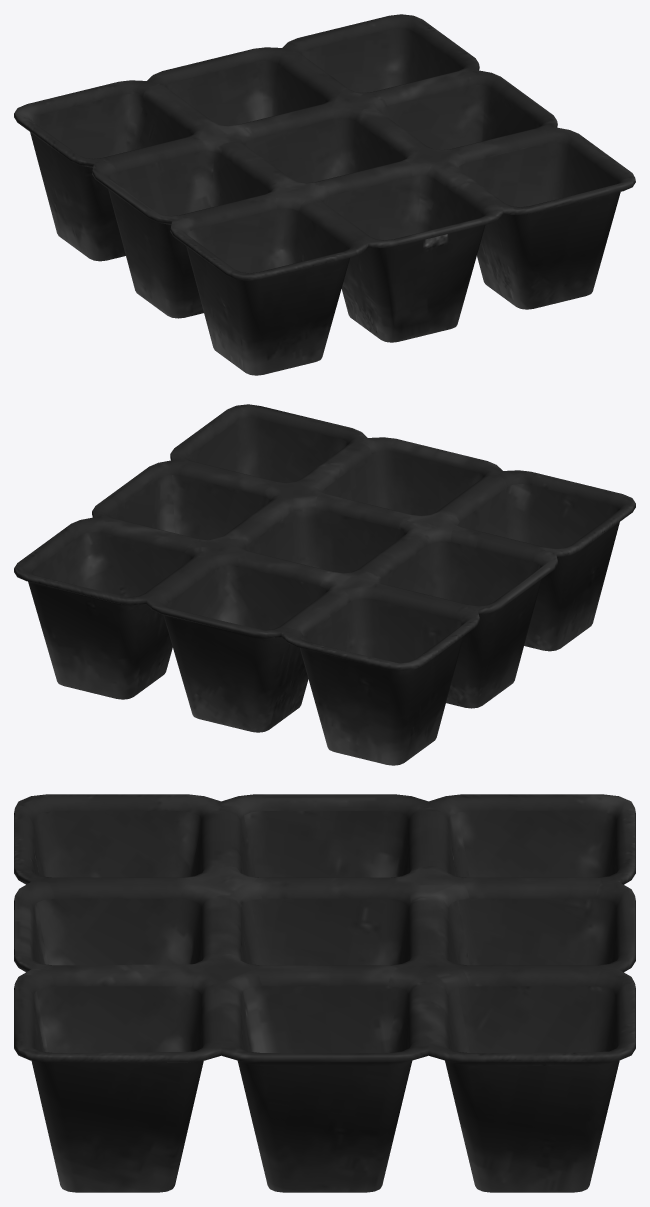
Rendered from seeding_tray_01.glb.
3 renders of one model, top to bottom at view 1: azimuth 30°, elevation 25°; view 2: azimuth 150°, elevation 25°; view 3: azimuth 270°, elevation 25°, orthographic. The views are drawn at different scales.
Parts seen in each view (by area): view 1: seeding_tray_01; view 2: seeding_tray_01; view 3: seeding_tray_01.
Part boxes in pixels (left/top/right/bottom): seeding_tray_01: left=14, top=14, right=635, bottom=375; seeding_tray_01: left=14, top=404, right=635, bottom=765; seeding_tray_01: left=14, top=794, right=635, bottom=1192.
Bounding box in the file's own units: 0.2202 × 0.0608 × 0.2202.
1 material, 1 textured.
